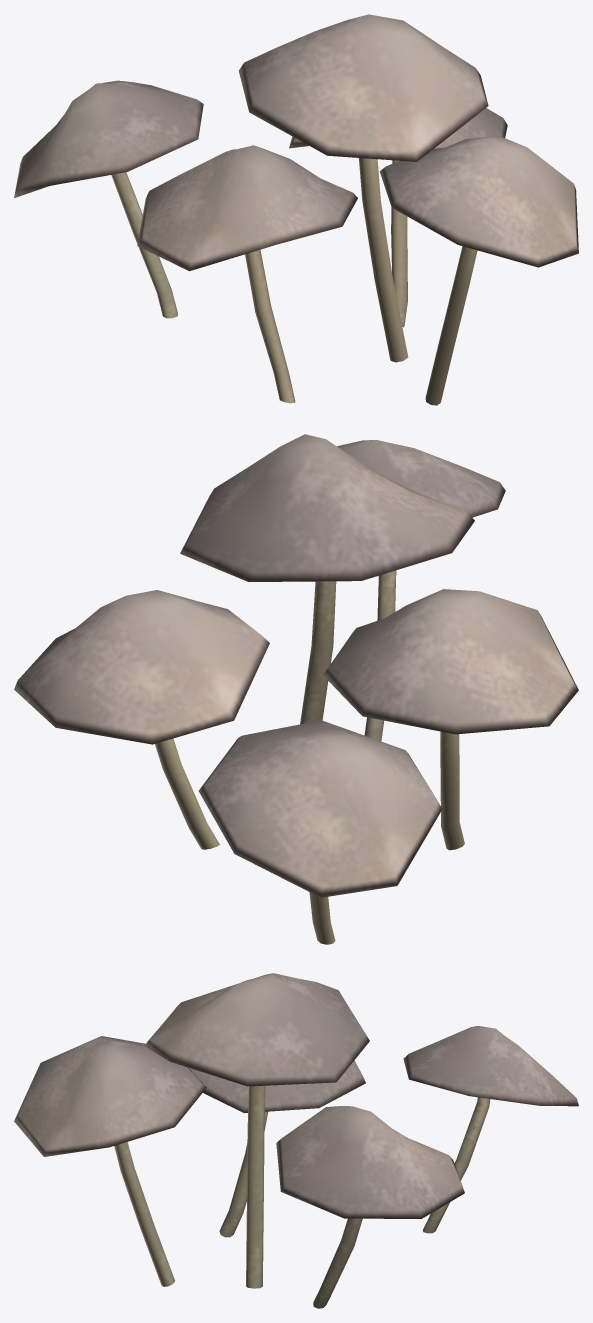
Rendered from nature-mushroom-common.glb.
3 views of the same model, one above another, from view 1: azimuth 30°, elevation 25°; view 2: azimuth 150°, elevation 25°; view 3: azimuth 270°, elevation 25° (orthographic). The views are drawn at different scales.
Visible parts, largest first — view 1: Mushroom_Common; view 2: Mushroom_Common; view 3: Mushroom_Common.
Part boxes in pixels (x1,y1,x2,y2): Mushroom_Common: [14, 14, 578, 405]; Mushroom_Common: [14, 434, 578, 944]; Mushroom_Common: [14, 973, 578, 1308].
Size of the model in its own units: 0.5637 by 0.4635 by 0.7791.
Materials: 1 (1 with a texture image).
